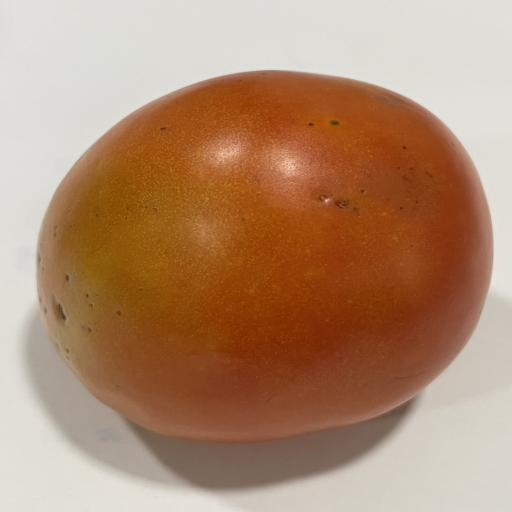unripe: (36, 70, 492, 442)
